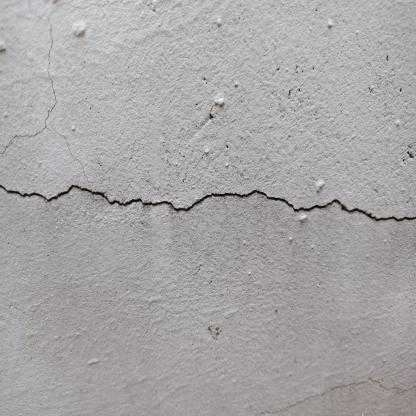crack: (0, 18, 91, 190), (0, 185, 416, 222)
